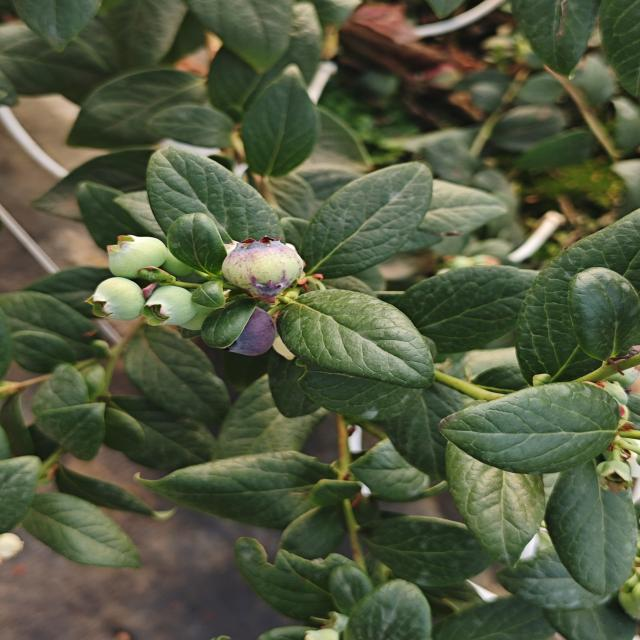ripe: (212, 303, 288, 358)
